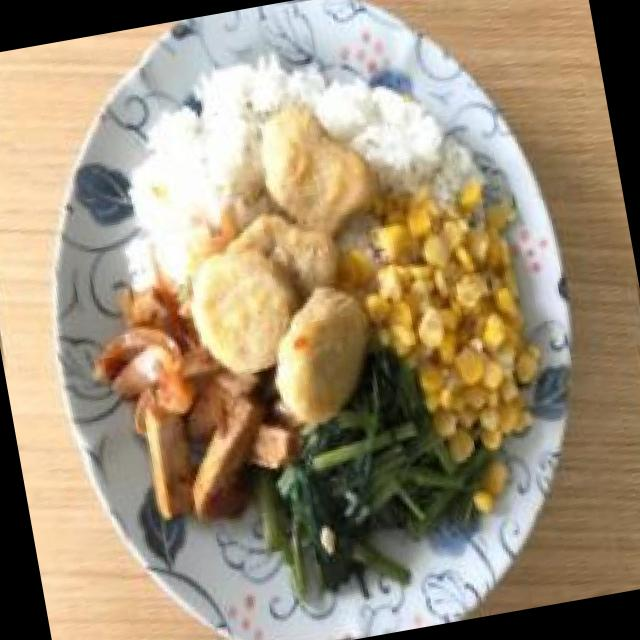chicken_nuggets: (183, 204, 393, 446), (252, 100, 381, 237)
rice: (97, 48, 286, 290)
water_spinach: (242, 334, 489, 606)
